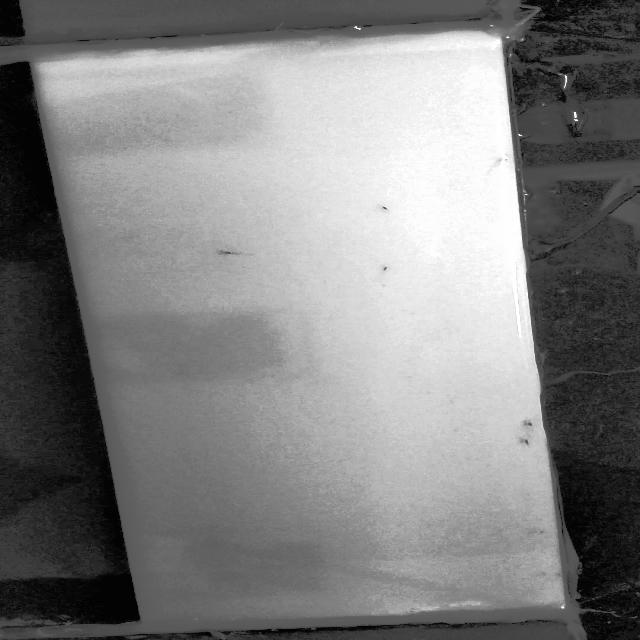shrimp: (220, 249, 268, 261), (519, 418, 540, 435), (528, 527, 554, 537), (371, 263, 392, 272), (515, 438, 533, 448), (379, 204, 399, 212)
